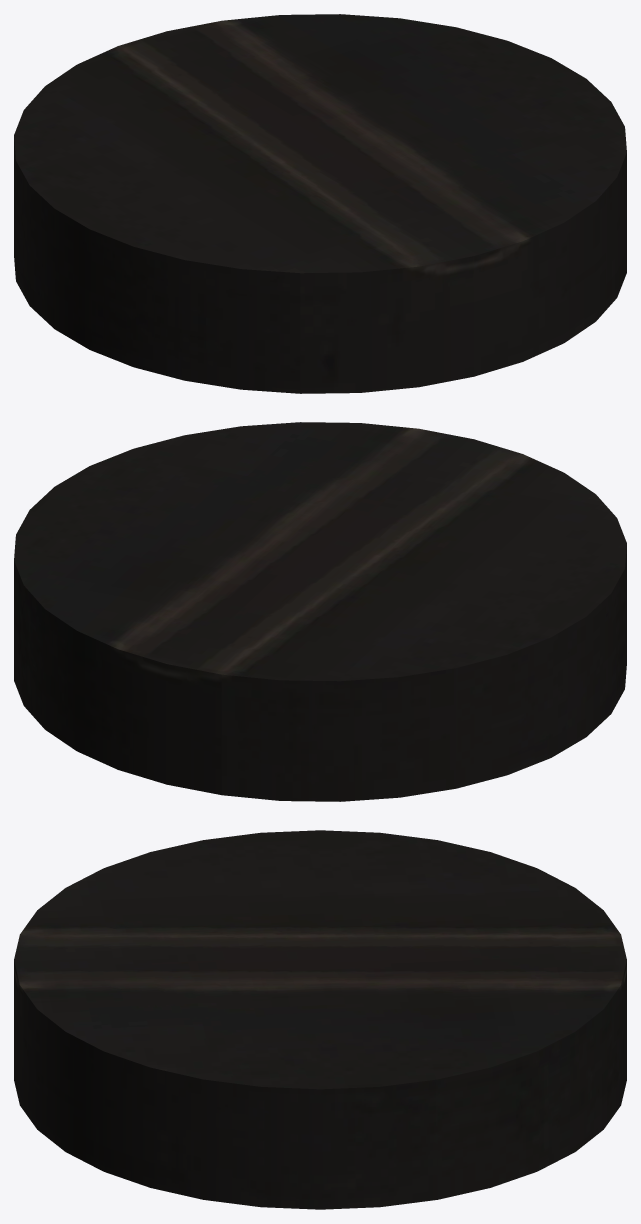
The model's file is pump_body__gauge_bezel.glb.
3 renders of one model, top to bottom at view 1: azimuth 30°, elevation 25°; view 2: azimuth 150°, elevation 25°; view 3: azimuth 270°, elevation 25°, orthographic.
Parts seen in each view (by area): view 1: geometry_0; view 2: geometry_0; view 3: geometry_0.
Boxes of the visible parts, left/top/right/bottom form: geometry_0: left=14, top=14, right=626, bottom=393; geometry_0: left=14, top=422, right=626, bottom=801; geometry_0: left=14, top=830, right=626, bottom=1209.
Size of the model in its own units: 0.12 by 0.026 by 0.12.
Materials: 1 (1 with a texture image).
